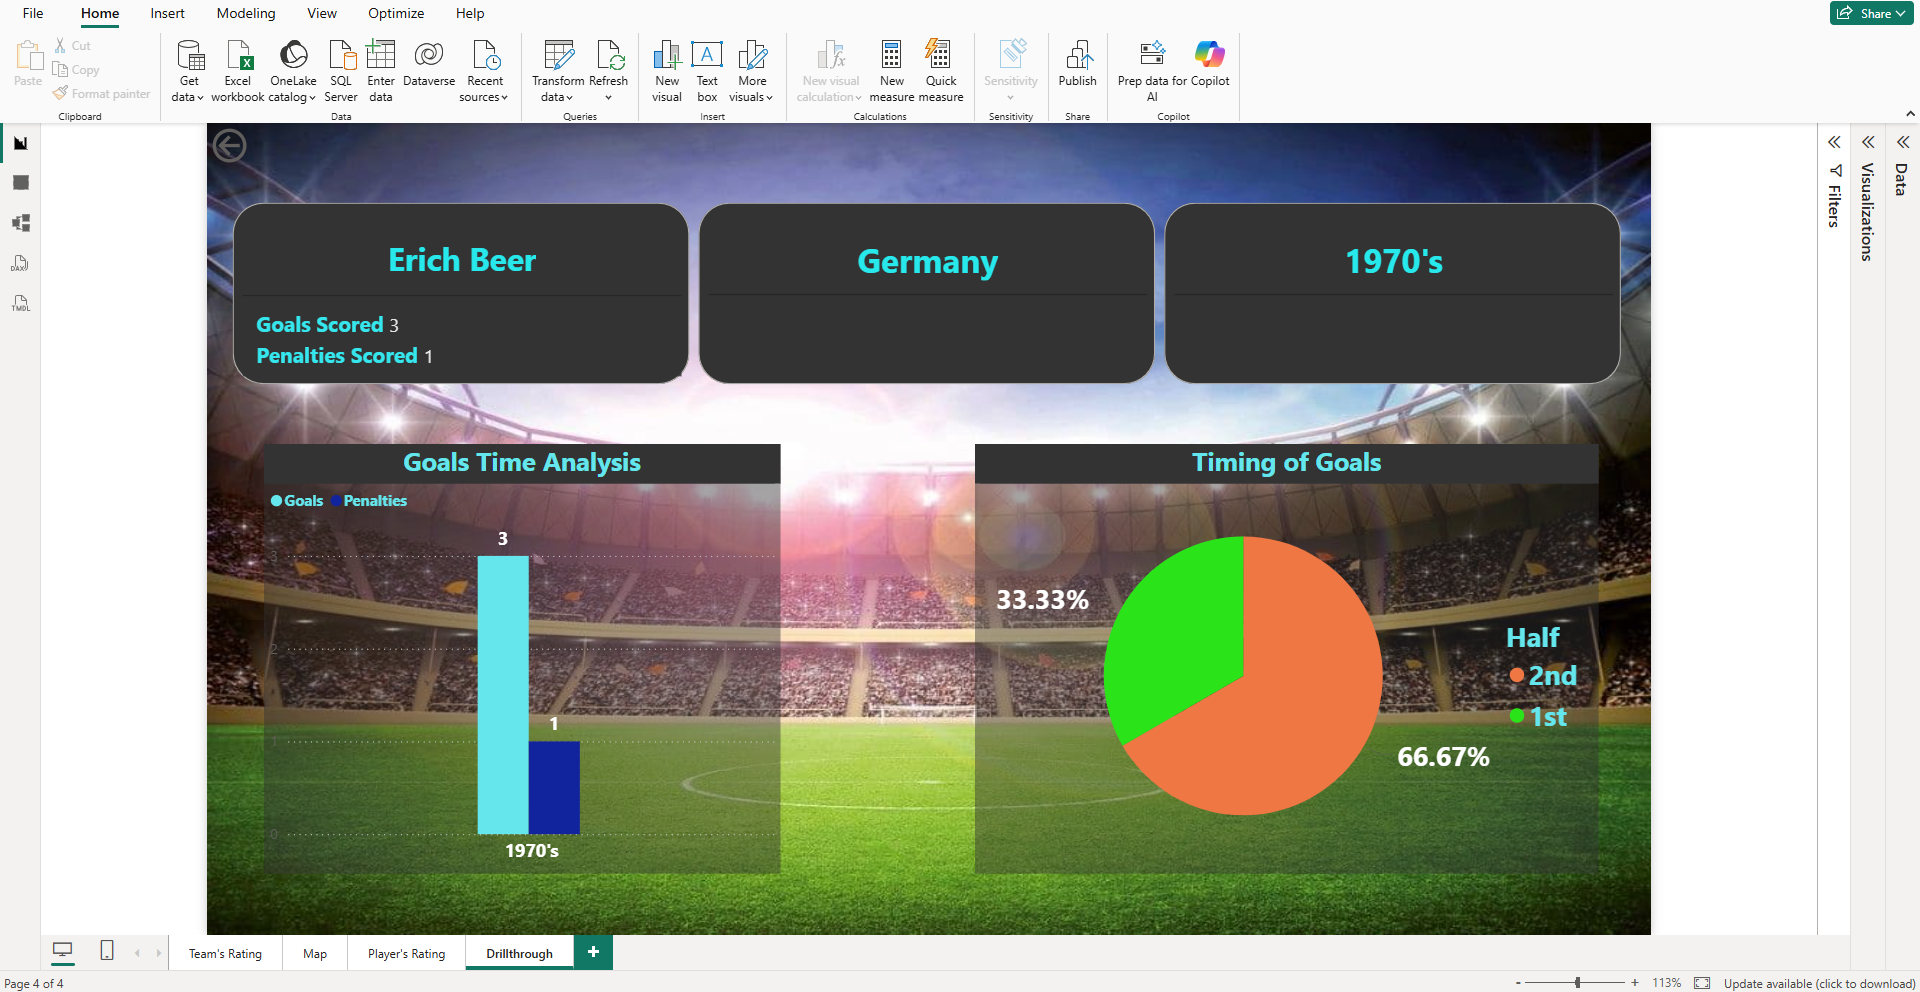

The dashboard page shown, as its layout file describes it:
{"tool":"powerbi","page":{"name":"Drillthrough","canvas":[1280,720],"ordinal":3},"visuals":[{"type":"cardVisual","fields":{"Data":["Min(goalscorers.scorer)","Min(goalscorers.team)","goalscorers.Years (SELECTEDVALUE)"]},"box":[17.3,65.9,1242.6,171.6],"z":0},{"type":"actionButton","box":[0,0,100,40],"z":1000},{"type":"clusteredColumnChart","title":"Goals Time Analysis","fields":{"Category":["goalscorers.Year Bins"],"Y":["goalscorers.Top Scorers (Measure)","goalscorers.Top Penalty Scorers"]},"box":[50.3,284.2,457.5,381.3],"z":3000},{"type":"pieChart","title":"Timing of Goals","fields":{"Category":["goalscorers.Half"],"Y":["goalscorers.Top Scorers (Measure)"]},"box":[681.1,284.2,552.8,381.3],"z":5000}]}

Visuals, with their boxes on the page's 1280x720 design canvas (x1, y1, x2, y2). These are canvas units, not pixel positions in the 1920x992 screenshot, which may show the page scaled, cropped or inside an application window:
cardVisual - Min(goalscorers.scorer) x Min(goalscorers.team): (x1=17, y1=66, x2=1260, y2=238)
actionButton: (x1=0, y1=0, x2=100, y2=40)
"Goals Time Analysis" clusteredColumnChart: (x1=50, y1=284, x2=508, y2=666)
"Timing of Goals" pieChart: (x1=681, y1=284, x2=1234, y2=666)
